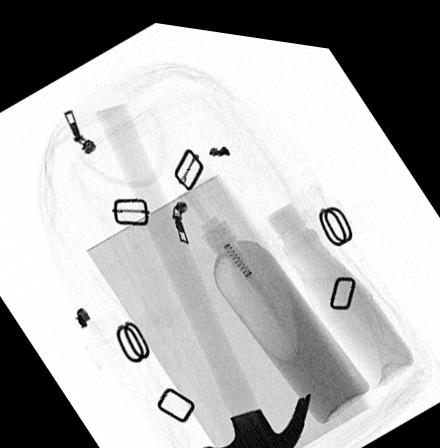Hammer: (93, 98, 311, 448)
